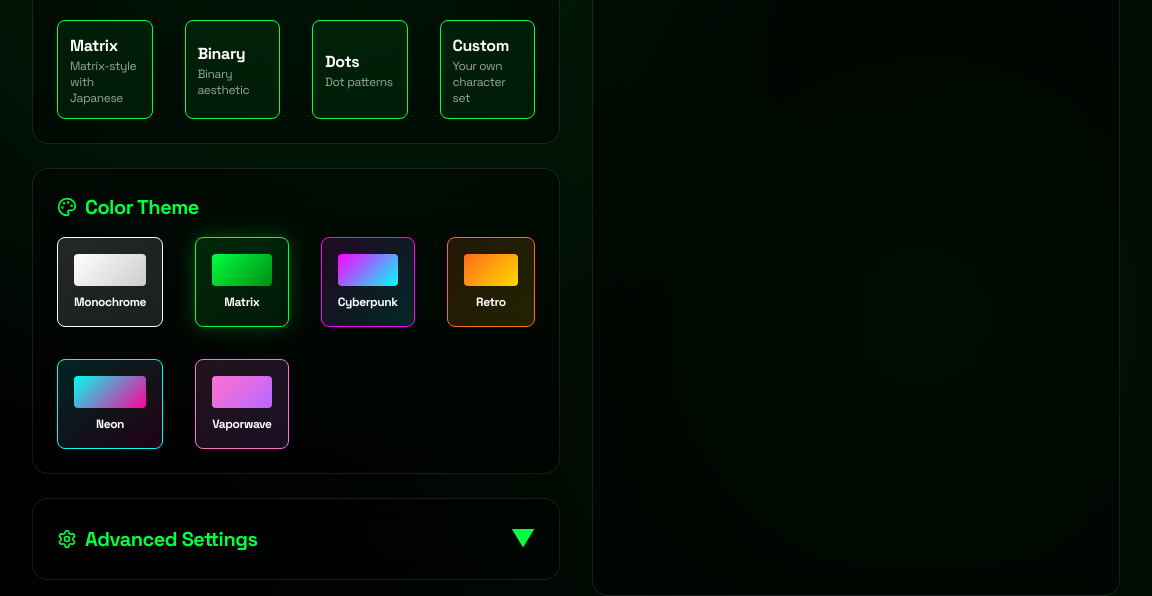
Scenario: ASCIIVideoConverter › Configuration Controls › should update contrast slider
This screenshot has width=1152, height=596.
(page scrolled)
Click advanced settings
Click the text "Advanced Settings".
click(157, 539)  # box [57,525,258,553]
(page scrolled)
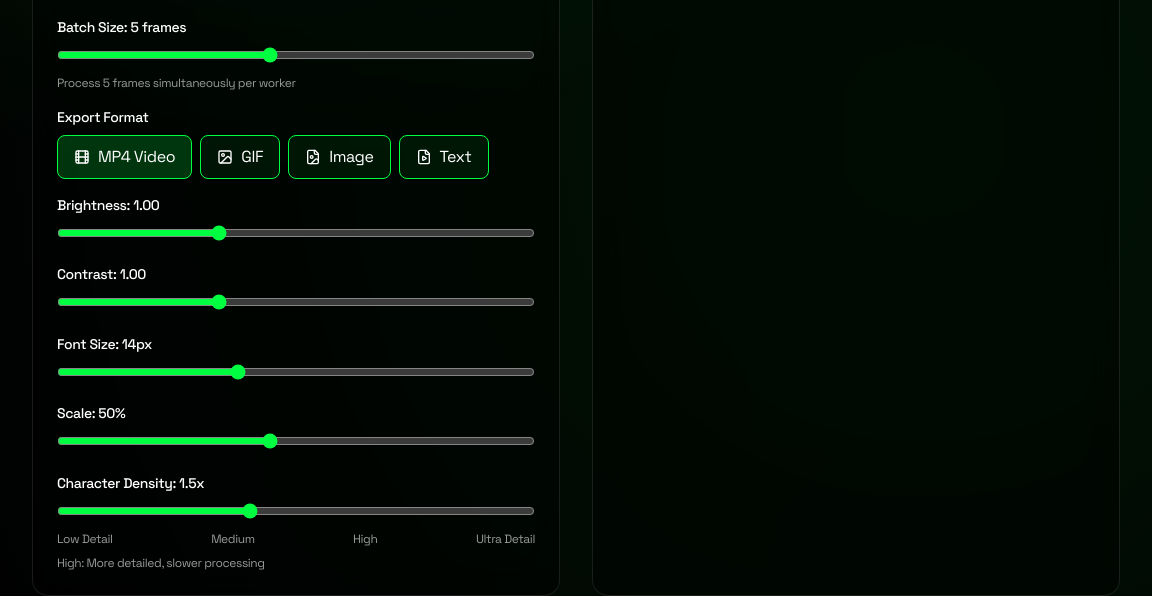
Expected: the text "Brightness: 1.00" is shown, [57,196,159,214]
Expected: the text "Contrast: 1.00" is shown, [57,265,146,283]
